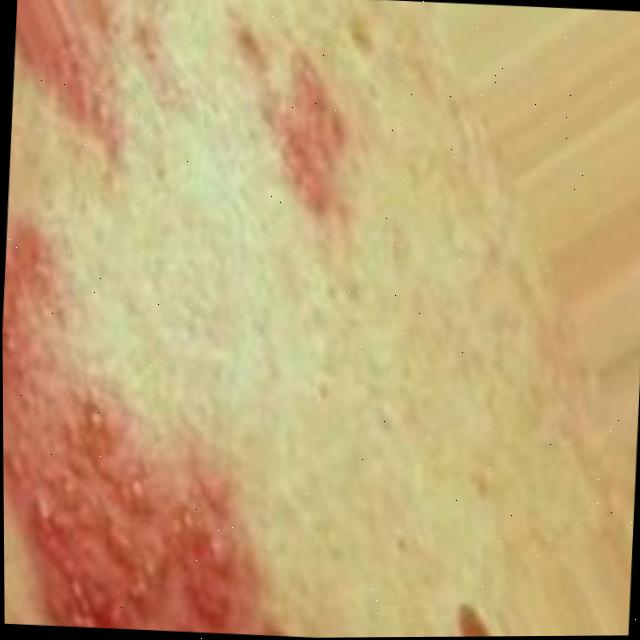Shingles: (2, 226, 314, 638), (219, 18, 363, 224), (17, 29, 152, 156)
